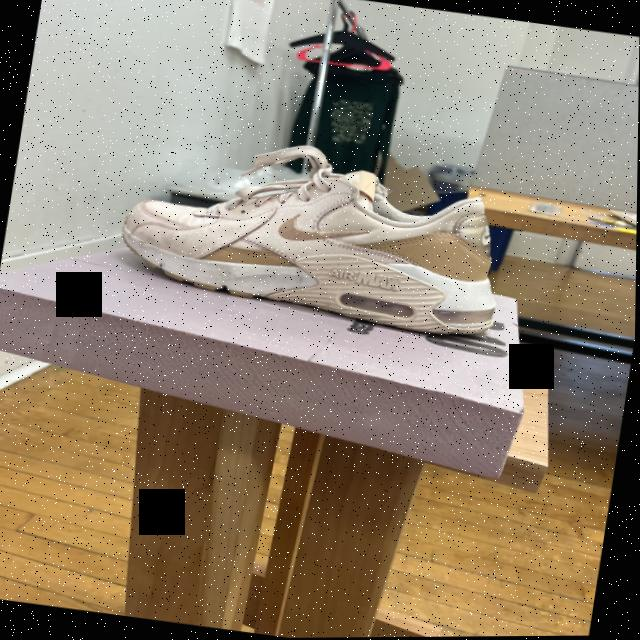shoes: (107, 118, 522, 349)
